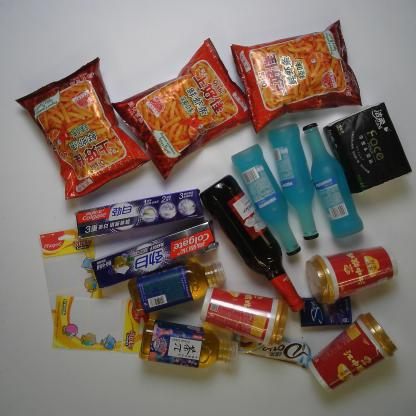Alcohol: (199, 174, 306, 313), (232, 143, 301, 258), (302, 121, 364, 241), (268, 122, 320, 242)
Chocolate: (232, 327, 312, 371)
Drink: (126, 260, 226, 316), (138, 318, 239, 369)
Gum: (300, 294, 352, 328)
Instant Drink: (307, 312, 399, 394), (305, 245, 398, 305), (199, 286, 289, 348)
Personal Hygiene: (90, 218, 220, 291), (75, 188, 204, 240)
Puffed Food: (109, 37, 256, 182), (15, 57, 151, 200), (230, 20, 363, 134)
Stationery: (52, 295, 159, 355), (39, 228, 104, 326)
Tissue: (322, 102, 412, 194)
